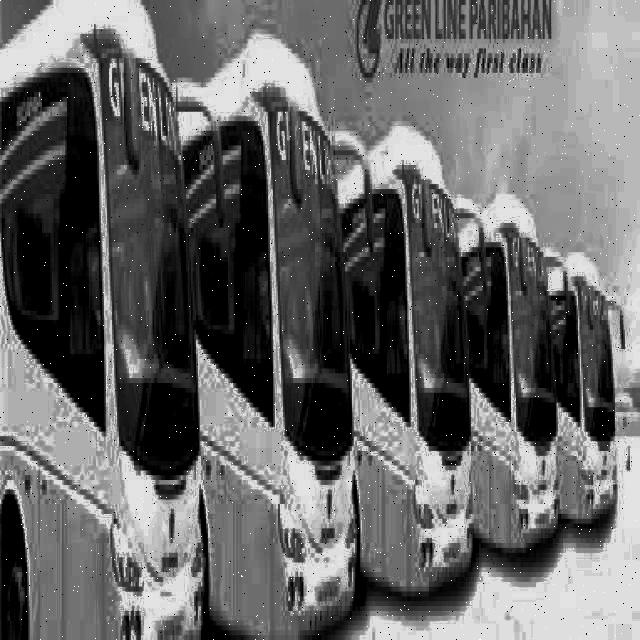Bus: (4, 0, 222, 640), (171, 0, 367, 640), (330, 34, 482, 630), (471, 124, 563, 582), (554, 226, 628, 546)
